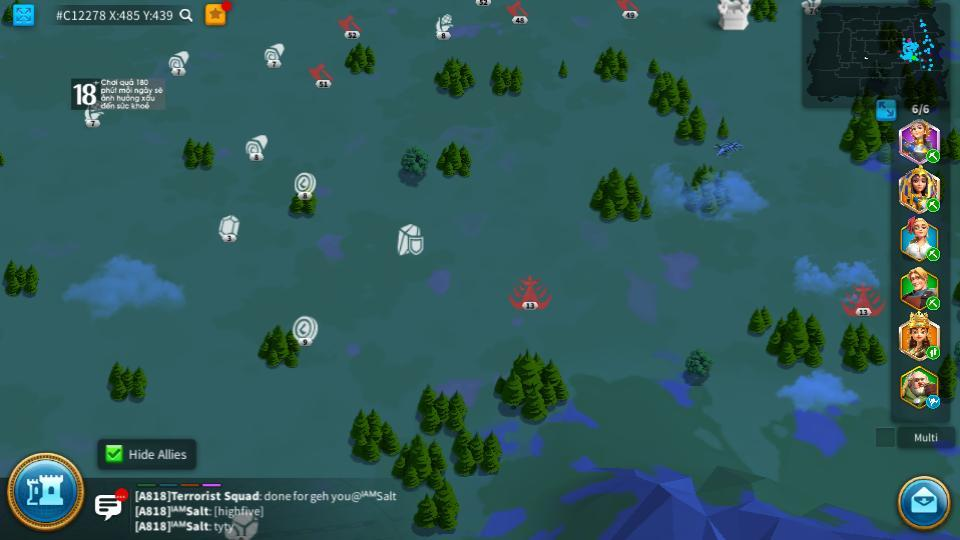gem-z-out: (215, 216, 240, 241)
march_farming: (925, 197, 941, 212), (925, 250, 941, 261)
march_idle: (925, 396, 942, 408)
march_marching: (925, 347, 942, 359), (925, 150, 942, 162), (925, 297, 942, 308)
